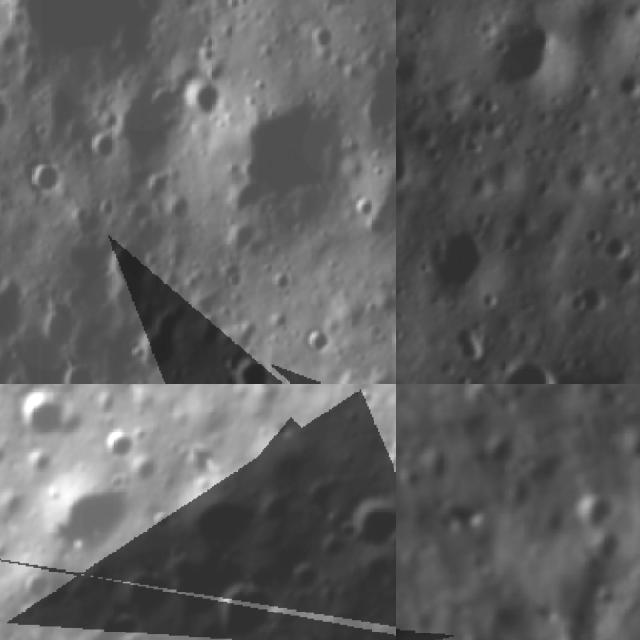crater: (228, 98, 348, 214), (30, 457, 146, 574), (7, 0, 164, 69), (170, 470, 272, 567), (152, 540, 243, 626), (207, 569, 301, 640), (491, 5, 560, 93), (98, 230, 165, 318), (3, 384, 77, 454), (116, 562, 185, 631), (341, 483, 396, 561), (124, 318, 190, 380), (427, 223, 482, 290), (35, 293, 89, 356), (0, 271, 35, 343), (490, 355, 571, 384), (283, 556, 330, 602), (578, 482, 623, 530), (97, 423, 142, 470), (216, 349, 273, 384), (96, 604, 151, 640), (0, 478, 38, 529), (184, 76, 227, 121), (23, 159, 66, 196), (81, 128, 120, 166), (296, 326, 333, 362), (396, 128, 415, 193), (592, 534, 626, 570), (456, 315, 483, 358), (162, 189, 196, 223), (58, 358, 101, 384), (309, 22, 340, 48), (0, 431, 18, 475), (562, 290, 597, 312), (612, 69, 640, 95), (0, 88, 14, 139), (607, 260, 640, 281), (599, 233, 630, 254), (357, 384, 396, 397), (580, 224, 606, 241), (452, 366, 475, 384), (173, 0, 204, 12)
